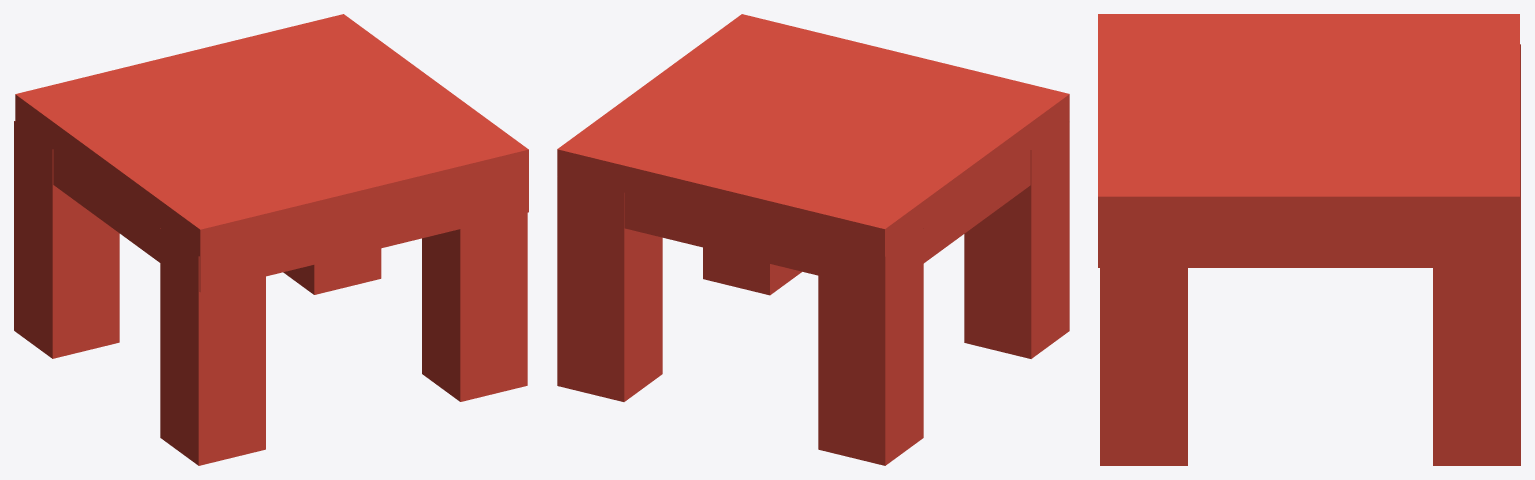
Rendered from table01_s01.FBX.
3 views of the same model, side by side, from view 1: azimuth 30°, elevation 25°; view 2: azimuth 150°, elevation 25°; view 3: azimuth 270°, elevation 25° (orthographic). The views are drawn at different scales.
Visible parts, largest first — view 1: table01_s01; view 2: table01_s01; view 3: table01_s01.
Boxes of the visible parts, <box> form: table01_s01: <box>14,14,528,465</box>; table01_s01: <box>557,14,1069,465</box>; table01_s01: <box>1098,14,1520,465</box>.
Size of the model in its own units: 120 by 117 by 82.44.
Materials: 1 (1 with a texture image).
